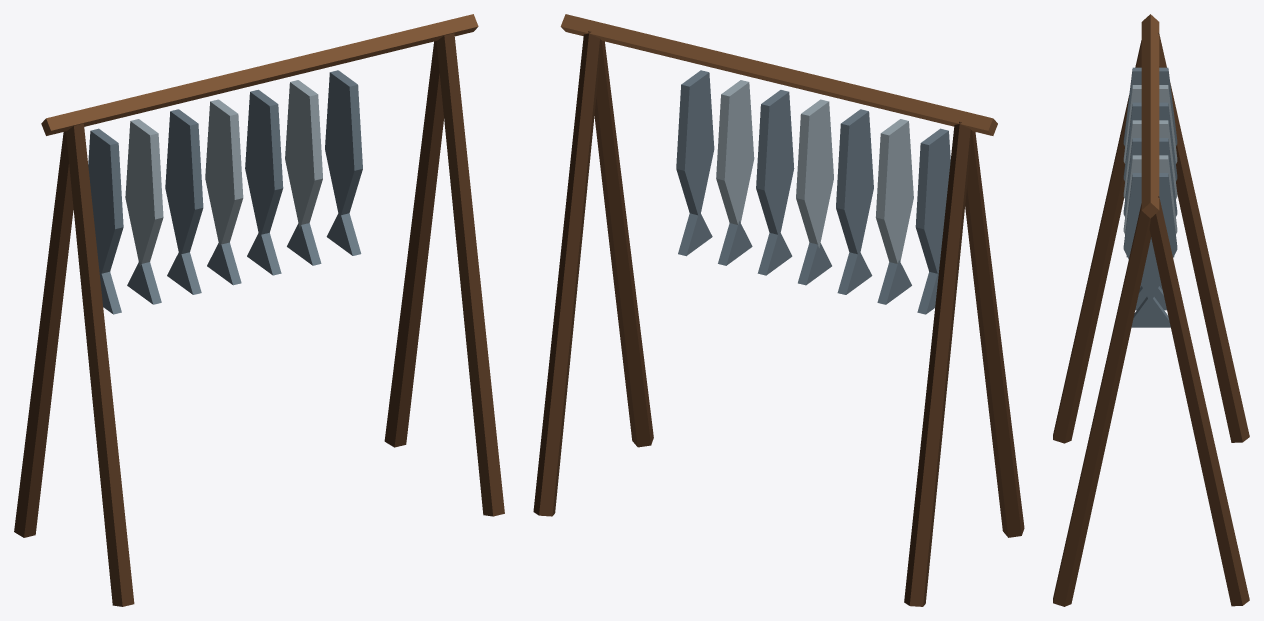
File: pile_fish_2.glb
The picture shows the model from 3 angles, left to right: view 1: azimuth 30°, elevation 25°; view 2: azimuth 150°, elevation 25°; view 3: azimuth 270°, elevation 25°; orthographic projection. The views are drawn at different scales.
Visible parts, largest first — view 1: pile_fish_2; view 2: pile_fish_2; view 3: pile_fish_2.
Boxes of the visible parts, x1,y1,x2,y2 form: pile_fish_2: (14,14,504,606); pile_fish_2: (533,14,1024,606); pile_fish_2: (1053,14,1249,606).
Bounding box in the file's own units: 1.5 × 1.54 × 0.6621.
